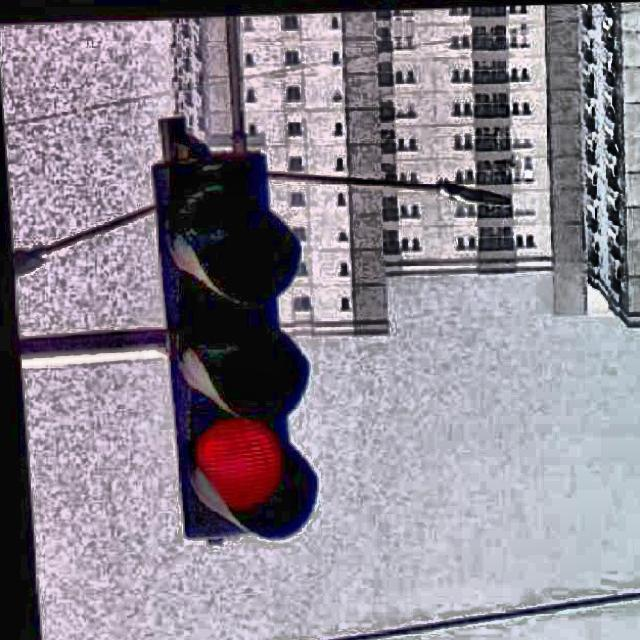red: (178, 145, 294, 543)
